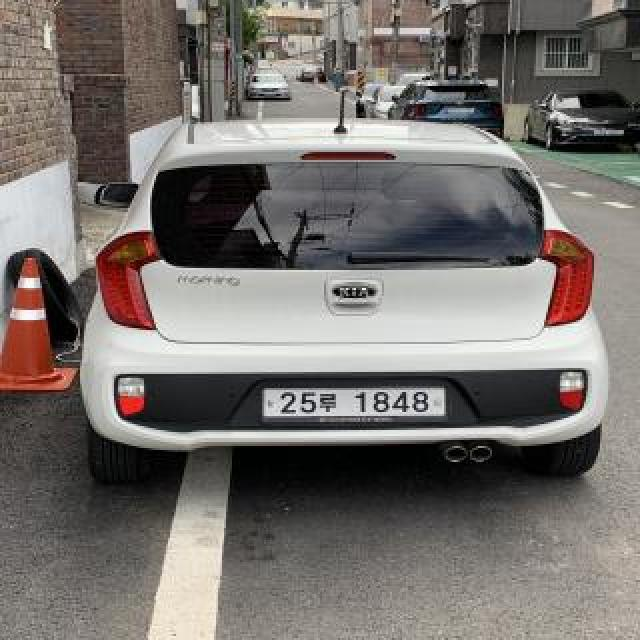car: (79, 112, 615, 498)
illegal_plate: (259, 381, 450, 429)
